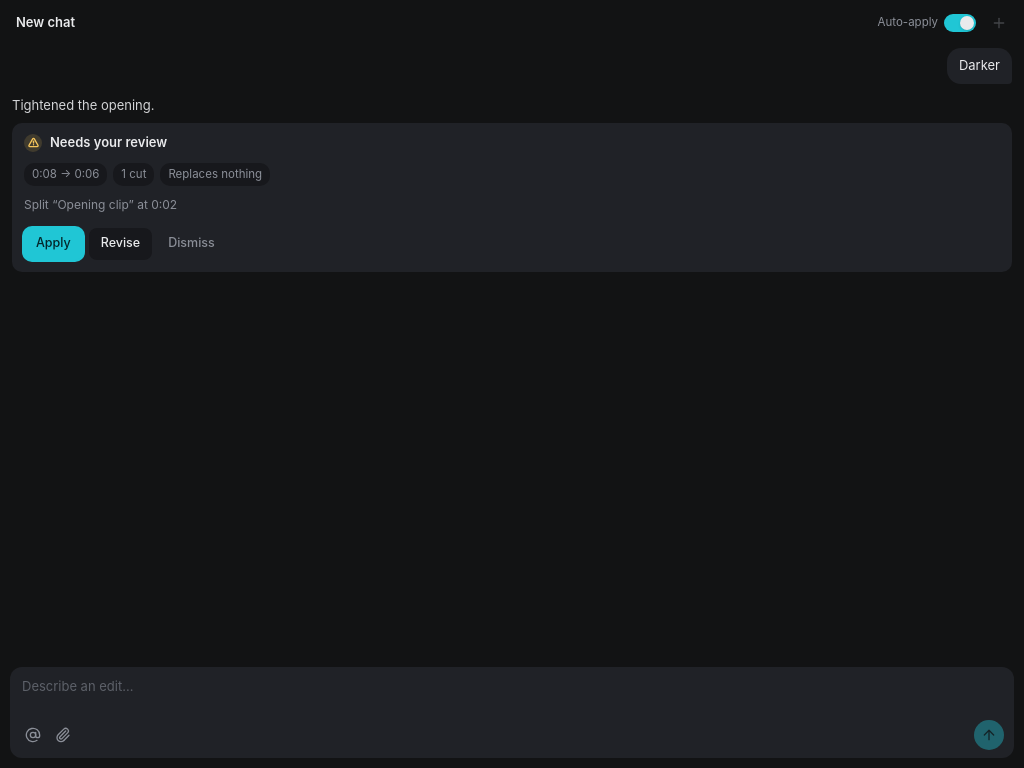
Test: AiPanel › prefills the composer with Revise
Click the button "Revise": (121, 244) [89,228,152,260]
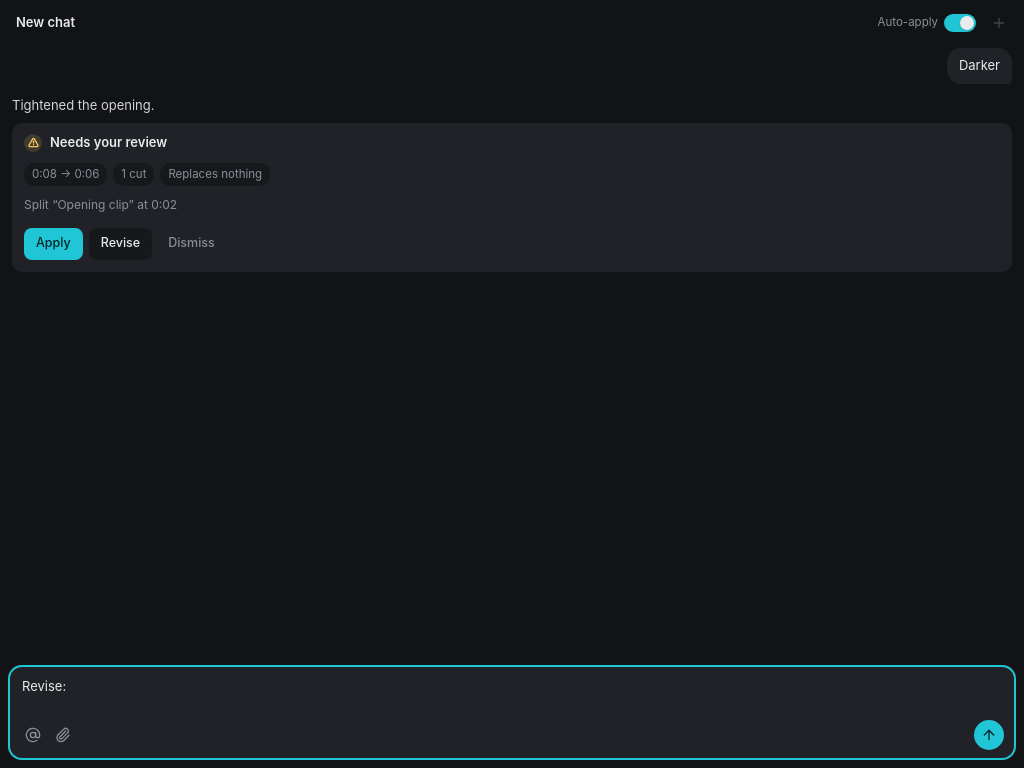
Now the text box named "Describe an edit" holds "Revise: ", box [20,677,1004,716]
